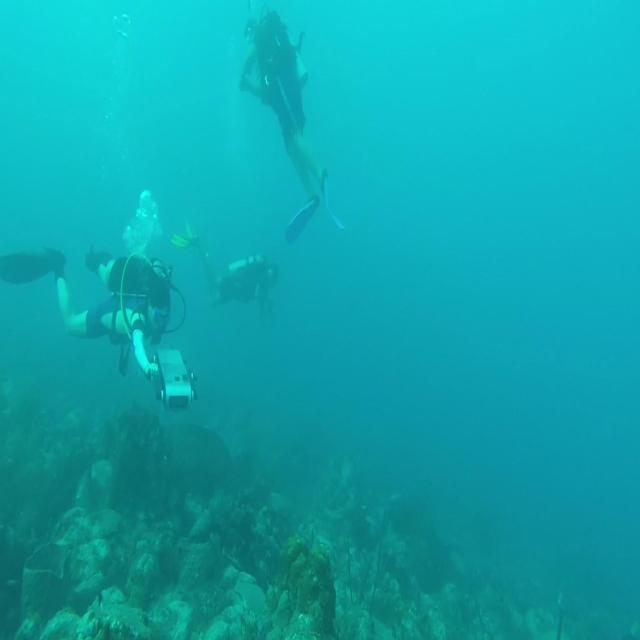human: (1, 242, 194, 412), (238, 5, 345, 244), (170, 222, 280, 318)
